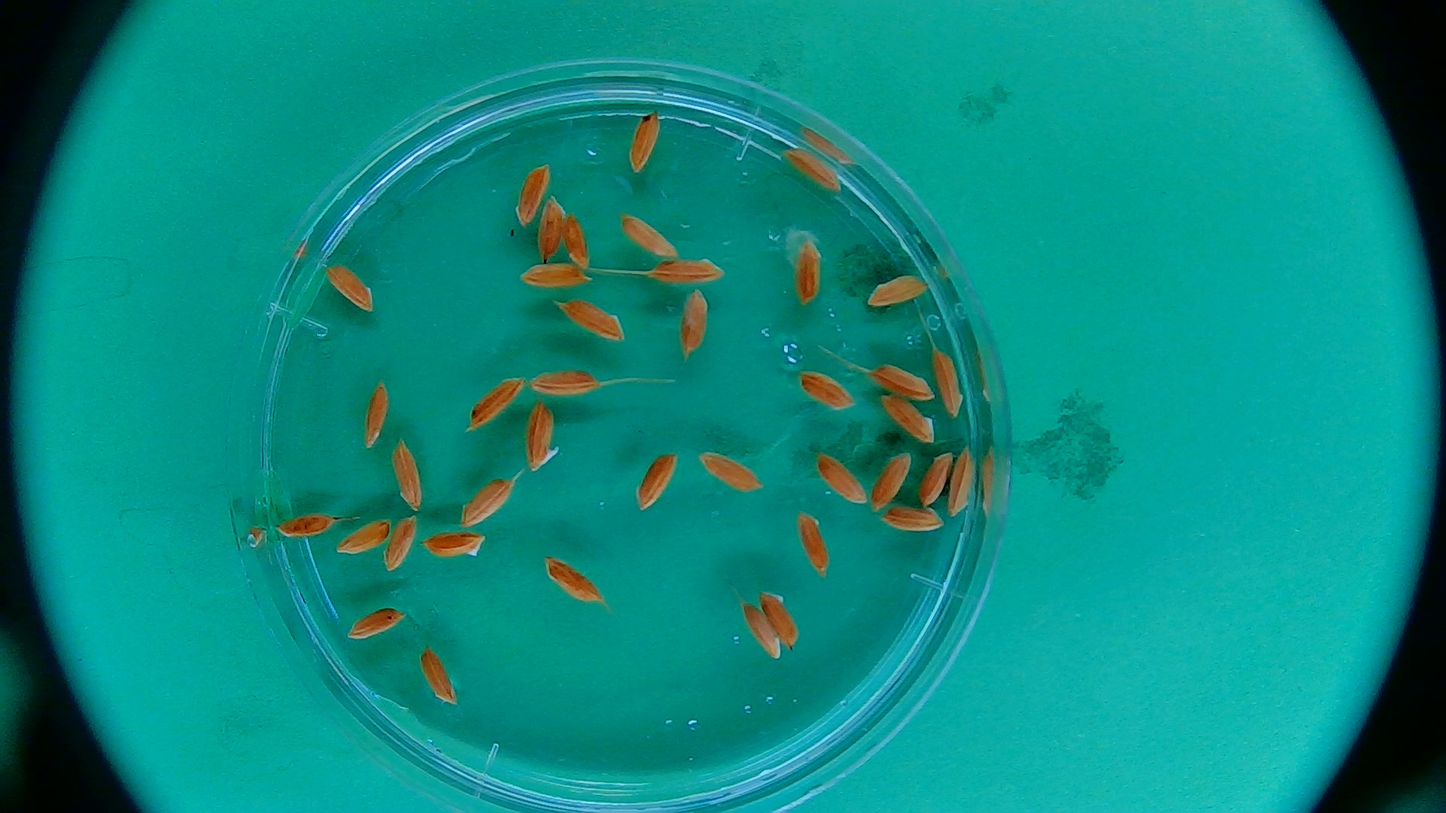no: (861, 355, 938, 402), (880, 388, 942, 443), (617, 212, 681, 261), (390, 439, 432, 513), (929, 351, 972, 422), (742, 599, 784, 671), (466, 376, 522, 430), (380, 511, 423, 578), (543, 556, 598, 607), (873, 362, 936, 406), (819, 452, 871, 505), (456, 479, 515, 524), (565, 300, 625, 344), (786, 145, 840, 193), (638, 451, 681, 510), (702, 452, 760, 495), (420, 528, 494, 561), (522, 402, 558, 469), (866, 273, 929, 310), (678, 283, 708, 360), (793, 515, 832, 574), (520, 261, 595, 291), (873, 449, 908, 513), (947, 443, 976, 520), (418, 650, 459, 704), (630, 106, 662, 175), (325, 269, 375, 313), (795, 234, 825, 306), (340, 524, 394, 562), (268, 512, 341, 540), (800, 373, 850, 413), (518, 159, 549, 223), (362, 379, 392, 445), (535, 370, 601, 400), (920, 446, 954, 504), (883, 504, 948, 534), (649, 260, 722, 286), (560, 212, 593, 269), (764, 588, 795, 647), (536, 193, 563, 260), (346, 611, 405, 637)
